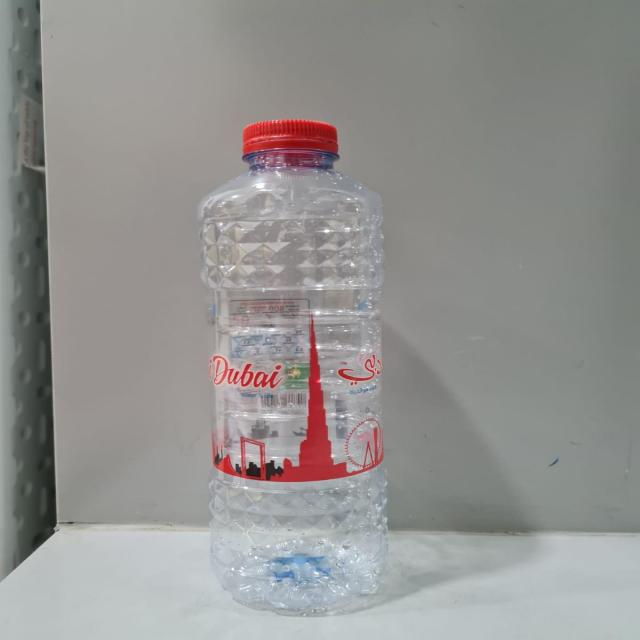bottle: (177, 99, 443, 630)
